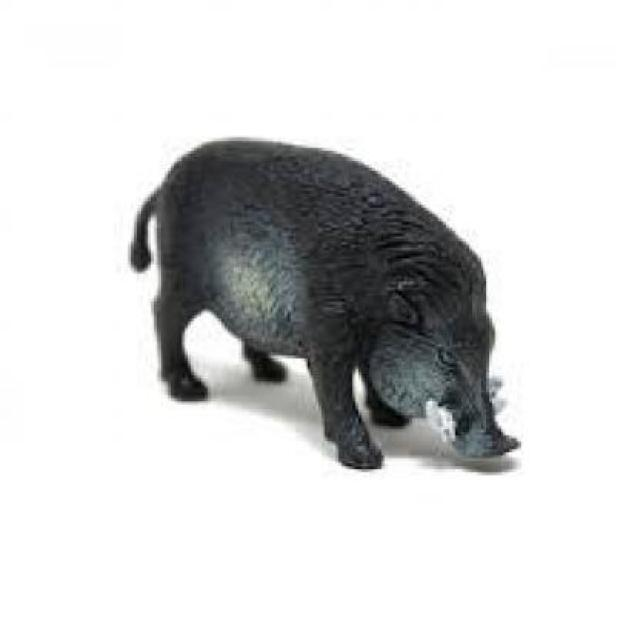wildboar: (120, 123, 526, 483)
